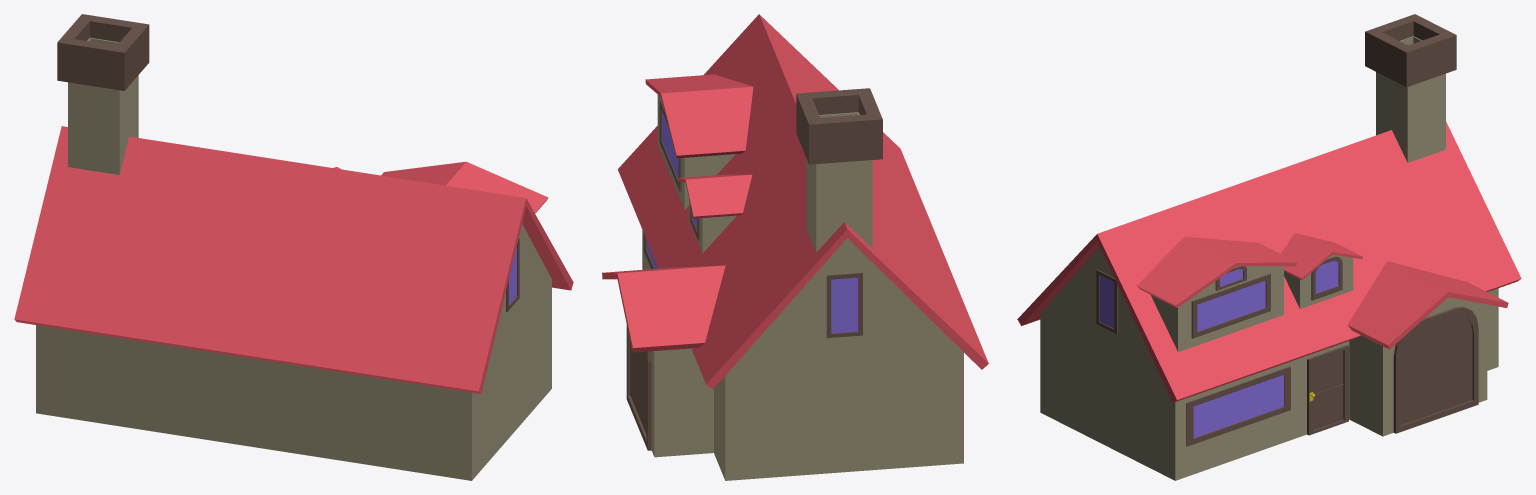
The model's file is CALLE8_CASA1_044.fbx.
3 renders of one model, left to right at view 1: azimuth 30°, elevation 25°; view 2: azimuth 150°, elevation 25°; view 3: azimuth 270°, elevation 25°, orthographic. The views are drawn at different scales.
Visible parts, largest first — view 1: CASA1.044; view 2: CASA1.044; view 3: CASA1.044.
Part boxes in pixels (<box>): CASA1.044: <box>14,14,573,480</box>; CASA1.044: <box>602,14,988,480</box>; CASA1.044: <box>1017,14,1521,480</box>.
Bounding box in the file's own units: 1039 × 734 × 1094.
